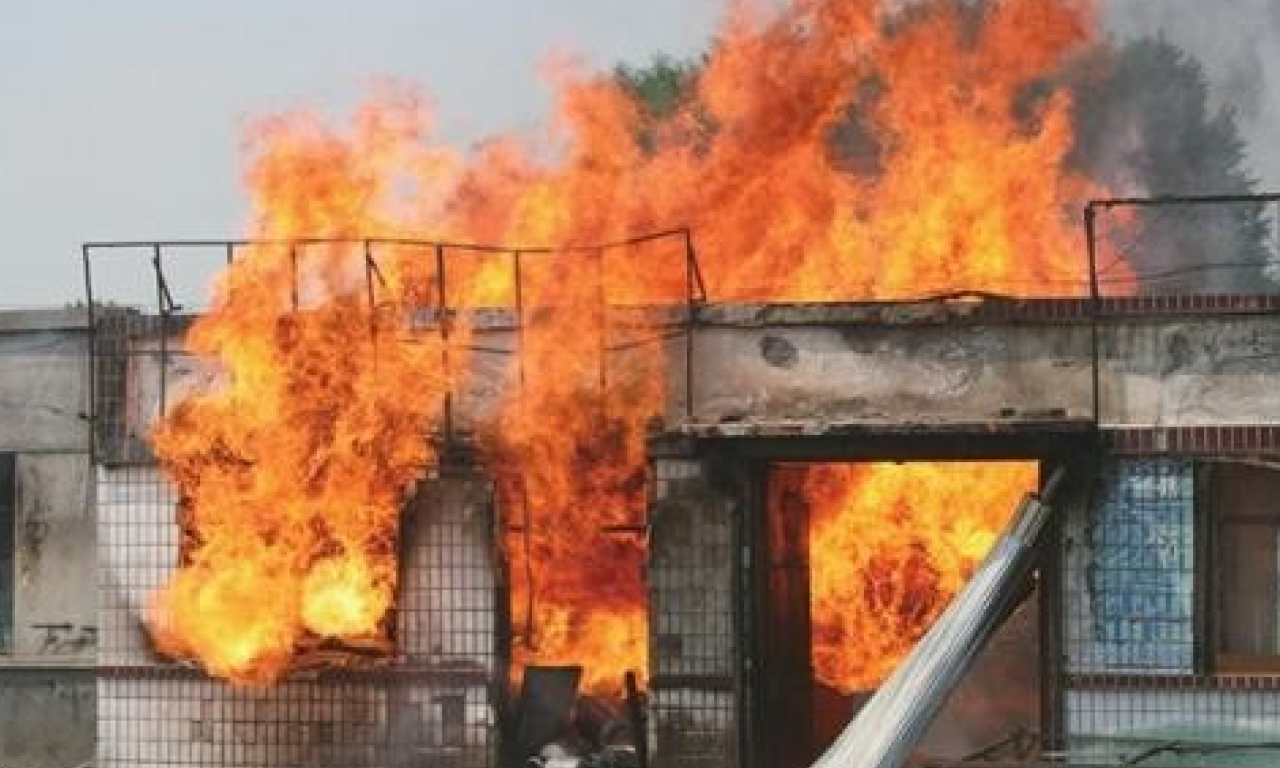fire: (131, 12, 1109, 693)
